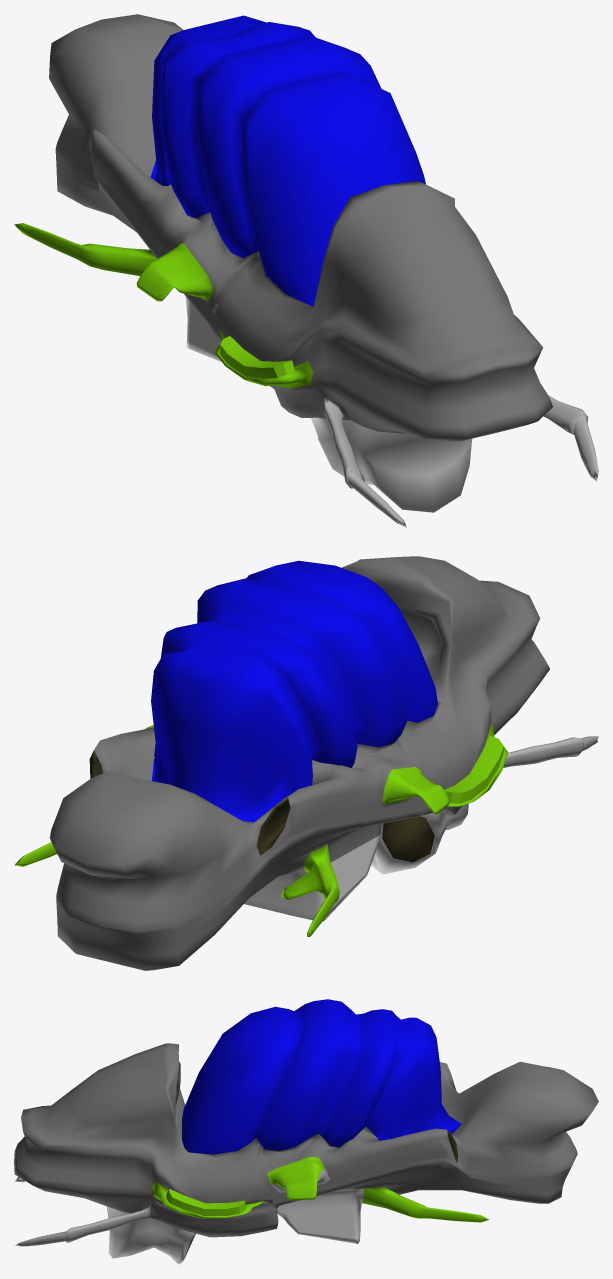
Rendered from HOVERB!KE.fbx.
3 renders of one model, top to bottom at view 1: azimuth 30°, elevation 25°; view 2: azimuth 150°, elevation 25°; view 3: azimuth 270°, elevation 25°, orthographic. The views are drawn at different scales.
Parts seen in each view (by area): view 1: Hover_Bike_Body; view 2: Hover_Bike_Body; view 3: Hover_Bike_Body.
Boxes of the visible parts, x1,y1,x2,y2 form: Hover_Bike_Body: (14,14,598,527); Hover_Bike_Body: (14,556,598,970); Hover_Bike_Body: (14,999,598,1264).
Size of the model in its own units: 13 by 14.77 by 31.45.
